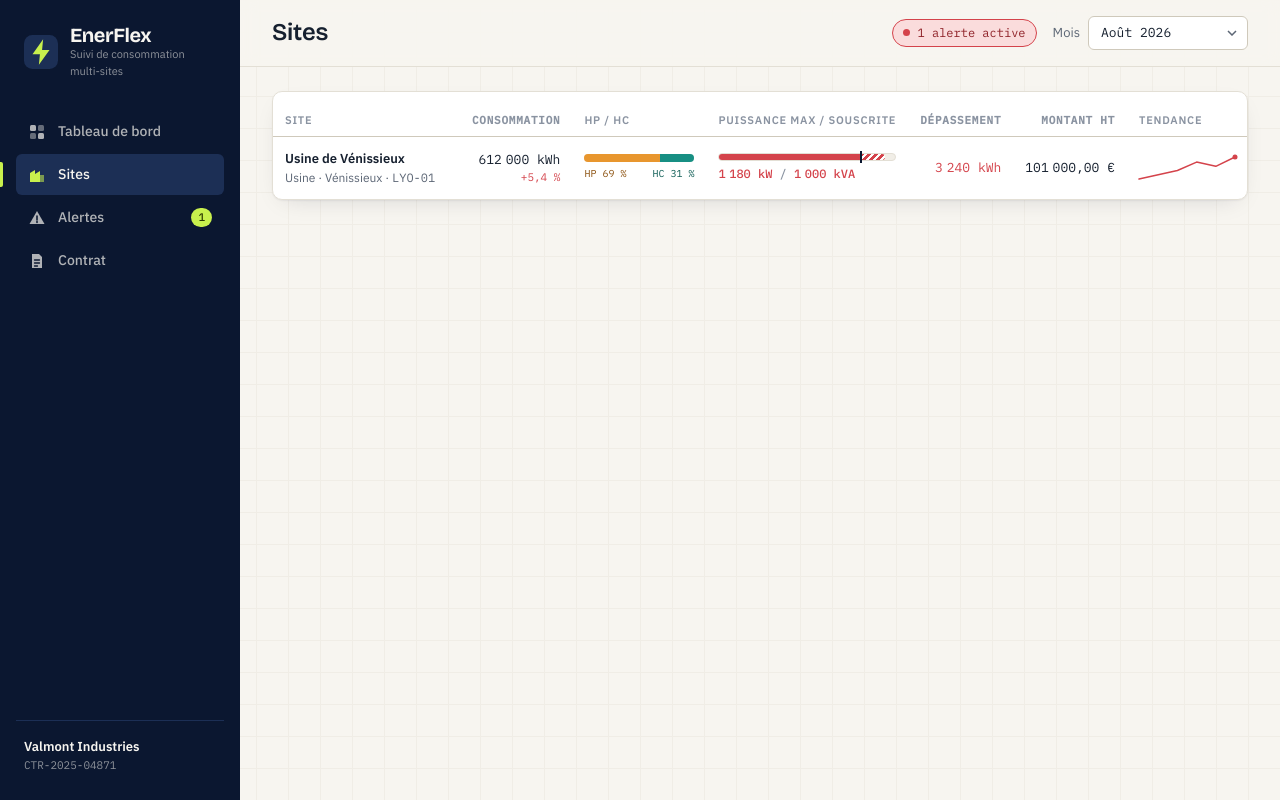
Scenario: AppShell › changes the month in the URL and keeps it while navigating
Select "2026-06" in the dropdown labelled "Mois". click: (1168, 33)
box: [1088,16,1248,50]
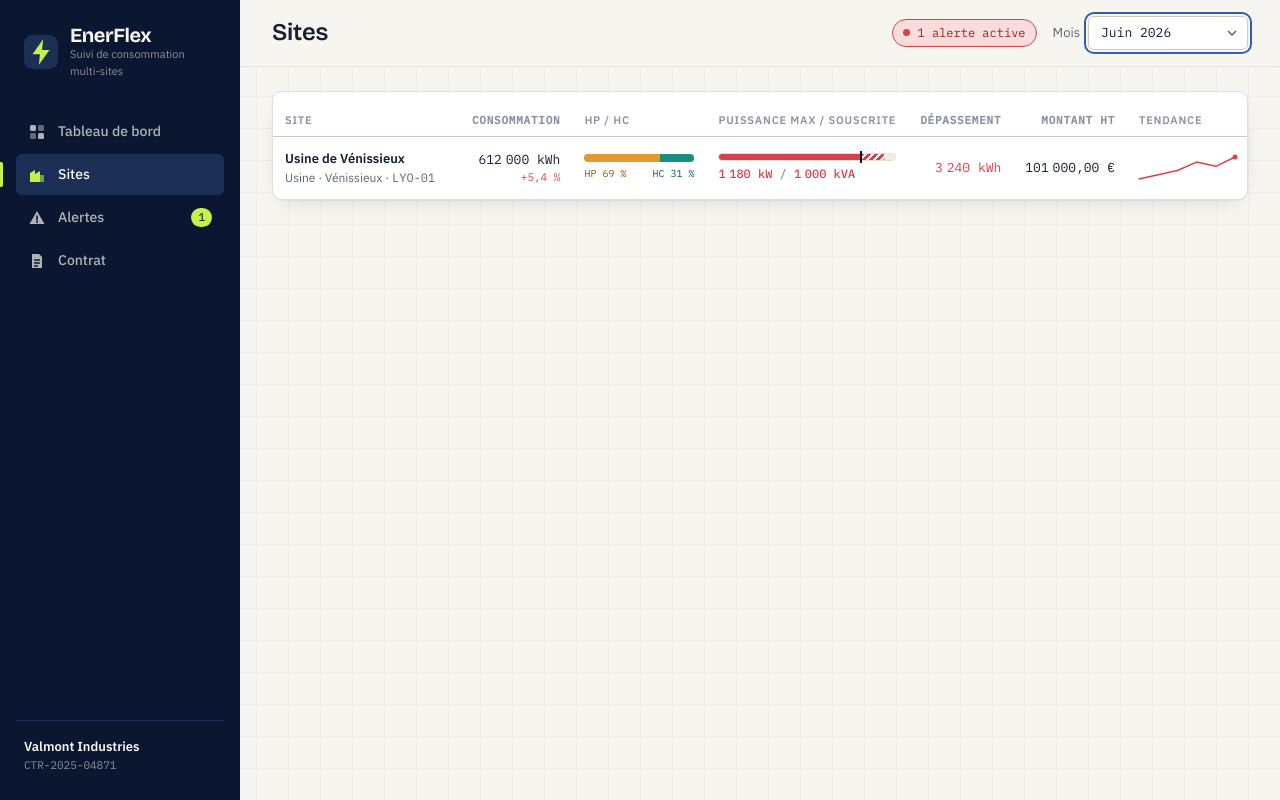
Click the link "Alertes 1". click: (81, 217)
box: [28,208,212,227]
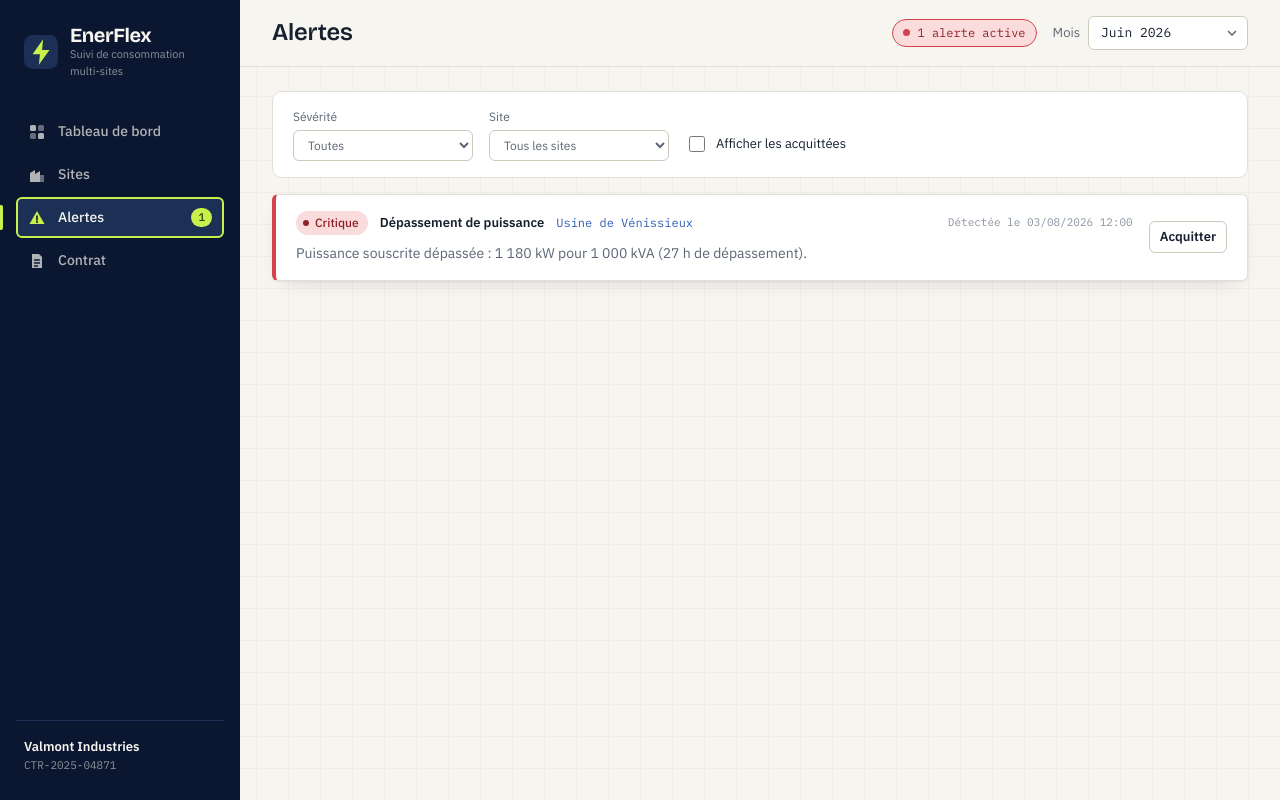
Expected: the heading "Alertes" is shown, [272,19,353,47]
